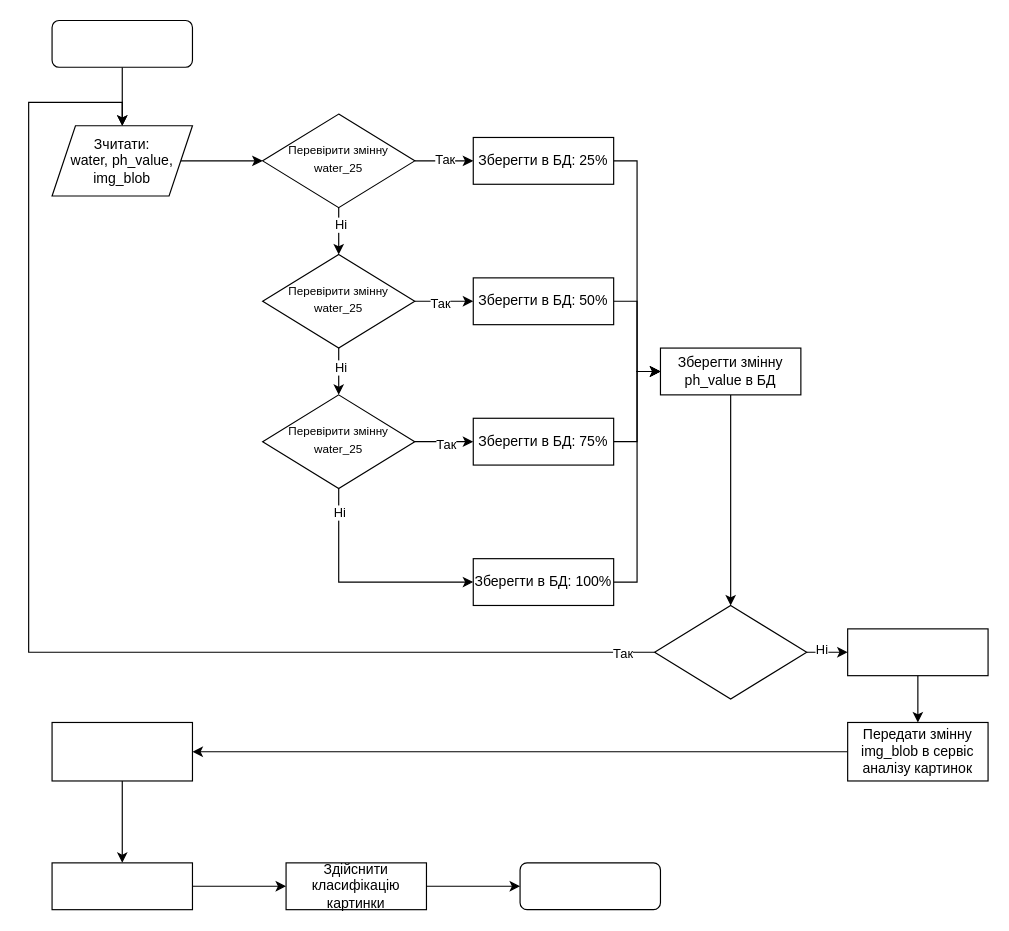
Image size: 1009x931. Some labels were removed from this diagram. Here are the shapes that lost their labels. From the top down, the box of each, then its label:
(51, 19, 192, 67): Початок
(653, 604, 807, 699): img_blob = null
(846, 628, 988, 676): Зберегти зміну img_blob в БД
(51, 721, 192, 781): Здійснити конвулюцію картинки
(51, 862, 192, 910): Здійснити зчитування властивостей
(519, 862, 660, 910): Кінець
